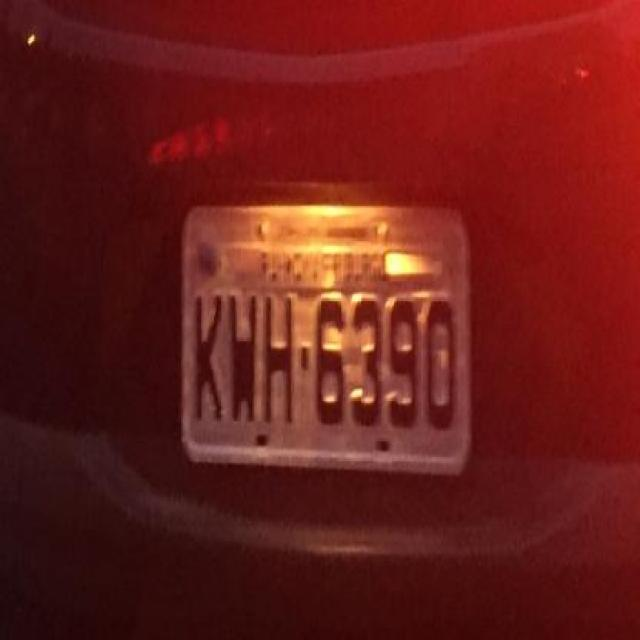old_plate: (164, 191, 484, 484)
